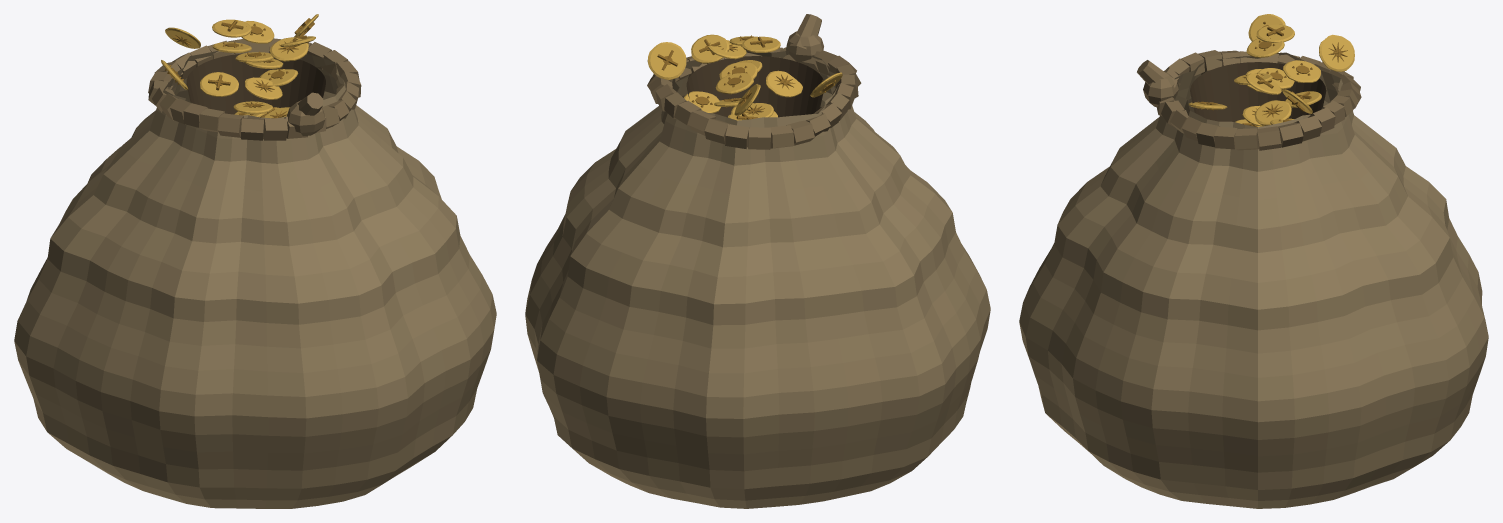
The model's file is CoinSack.glb.
3 views of the same model, side by side, from view 1: azimuth 30°, elevation 25°; view 2: azimuth 150°, elevation 25°; view 3: azimuth 270°, elevation 25° (orthographic). The views are drawn at different scales.
Visible parts, largest first — view 1: SackBody, DrawstringRope, DrawstringKnot, SackCoin_01, SackCoin_12, SackCoin_00, SackCoin_04; view 2: SackBody, DrawstringRope, DrawstringKnot, SackCoin_16, SackCoin_13, SackCoin_06, SackCoin_08, SackCoin_02, SackCoin_04; view 3: SackBody, DrawstringRope, DrawstringKnot, SackCoin_15, SackCoin_08, SackCoin_00, SackCoin_04, SackCoin_05.
Boxes of the visible parts, box(x1,y1,x2,y2) form: SackBody: box(14, 50, 496, 508); DrawstringRope: box(148, 38, 361, 140); DrawstringKnot: box(286, 92, 325, 135); SackCoin_01: box(200, 72, 238, 96); SackCoin_12: box(269, 37, 308, 61); SackCoin_00: box(244, 77, 282, 99); SackCoin_04: box(212, 19, 251, 37); SackBody: box(525, 50, 990, 508); DrawstringRope: box(647, 47, 861, 149); DrawstringKnot: box(786, 14, 823, 63); SackCoin_16: box(647, 42, 686, 80); SackCoin_13: box(691, 34, 729, 63); SackCoin_06: box(766, 70, 802, 97); SackCoin_08: box(715, 73, 753, 94); SackCoin_02: box(684, 91, 720, 113); SackCoin_04: box(741, 36, 780, 52); SackBody: box(1019, 52, 1488, 508); DrawstringRope: box(1156, 50, 1361, 150); DrawstringKnot: box(1137, 60, 1178, 107); SackCoin_15: box(1319, 34, 1354, 71); SackCoin_08: box(1283, 60, 1320, 82); SackCoin_00: box(1254, 100, 1291, 125); SackCoin_04: box(1256, 24, 1294, 42); SackCoin_05: box(1246, 38, 1284, 57).
Size of the model in its own units: 0.3718 by 0.3457 by 0.3671.
